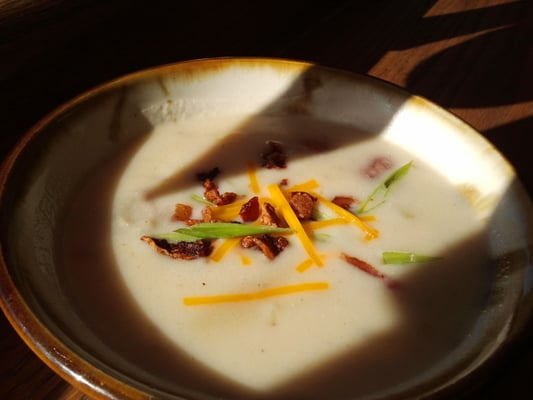sandwich: (25, 62, 525, 400)
